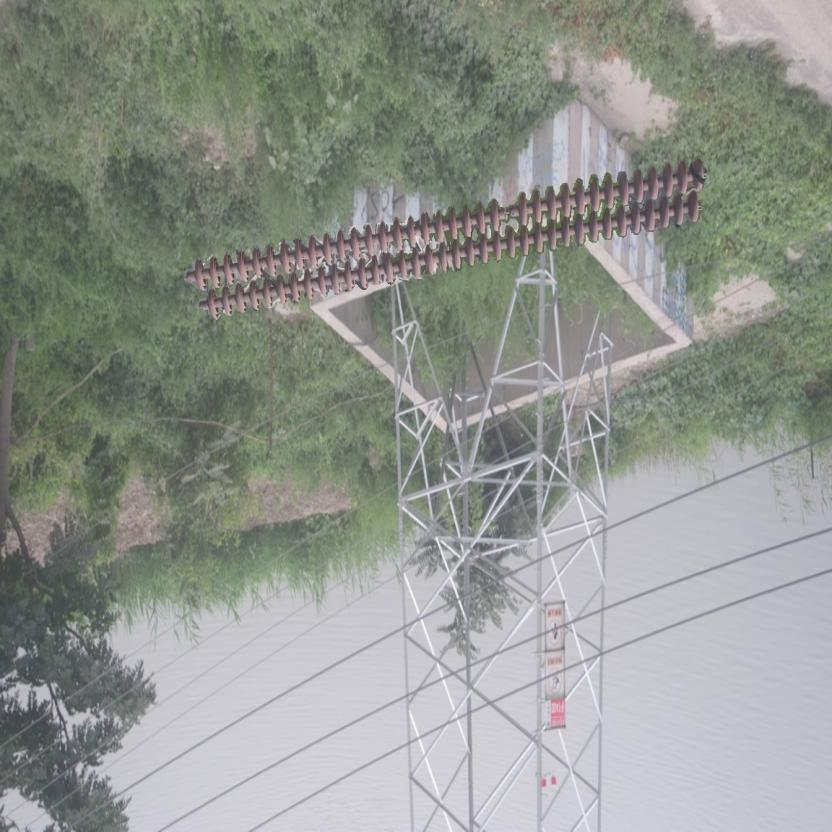defect: (484, 188, 532, 237)
